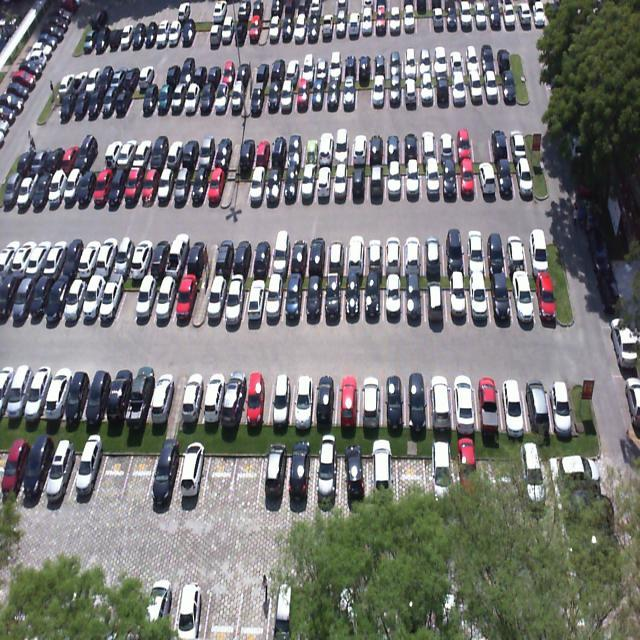space-empty: (94, 445, 132, 502), (123, 442, 158, 502), (231, 451, 264, 504), (204, 448, 238, 498), (117, 271, 146, 322), (231, 164, 252, 205)
space-occupied: (71, 446, 106, 501), (148, 444, 182, 500), (43, 445, 78, 499), (545, 370, 576, 426), (499, 373, 528, 432), (175, 445, 208, 496), (312, 451, 342, 507), (223, 370, 254, 424), (21, 446, 55, 494), (259, 448, 290, 500), (523, 371, 550, 428), (64, 367, 93, 420), (476, 372, 502, 429), (222, 272, 249, 326), (83, 371, 112, 421), (288, 449, 314, 504), (106, 371, 134, 422), (452, 374, 479, 426), (136, 267, 162, 320), (428, 375, 454, 428), (127, 370, 154, 420), (312, 372, 336, 428), (268, 373, 294, 424), (154, 274, 180, 324), (203, 370, 229, 420), (246, 372, 272, 422), (262, 270, 286, 324), (530, 270, 557, 318), (148, 374, 175, 422), (359, 371, 382, 426), (174, 272, 198, 324), (382, 371, 405, 424), (101, 270, 125, 320), (241, 275, 265, 325), (335, 373, 359, 423), (290, 372, 313, 424), (405, 374, 428, 426), (486, 273, 511, 320), (483, 227, 507, 275), (181, 373, 206, 418), (443, 226, 466, 273), (205, 273, 225, 327), (130, 236, 156, 276), (113, 238, 140, 276), (509, 276, 532, 320), (303, 276, 324, 324), (155, 165, 178, 208), (525, 229, 548, 272), (444, 277, 467, 320), (467, 275, 488, 322), (148, 237, 172, 278), (188, 164, 211, 206), (363, 276, 384, 322), (282, 276, 302, 324), (167, 238, 192, 276), (505, 227, 526, 272), (322, 277, 343, 322), (425, 229, 445, 276), (188, 239, 212, 278), (139, 165, 162, 205), (511, 156, 534, 196), (287, 234, 310, 274), (404, 226, 424, 272), (404, 274, 424, 320), (426, 276, 446, 322), (172, 165, 193, 208), (382, 231, 404, 272), (229, 238, 252, 277), (204, 166, 226, 206), (464, 228, 484, 272), (213, 239, 236, 276), (384, 276, 402, 322), (307, 234, 328, 273), (345, 231, 364, 274), (268, 236, 290, 272), (251, 235, 272, 272), (345, 275, 362, 320), (324, 235, 344, 273), (364, 235, 383, 273), (458, 162, 478, 198), (478, 158, 496, 198), (299, 166, 317, 205), (494, 160, 514, 195), (267, 166, 284, 207), (283, 164, 300, 205), (250, 166, 268, 204), (368, 162, 386, 200), (422, 163, 440, 198), (333, 165, 350, 202), (388, 162, 404, 200), (403, 163, 420, 198), (440, 162, 458, 195), (316, 166, 332, 200), (351, 164, 367, 198)
